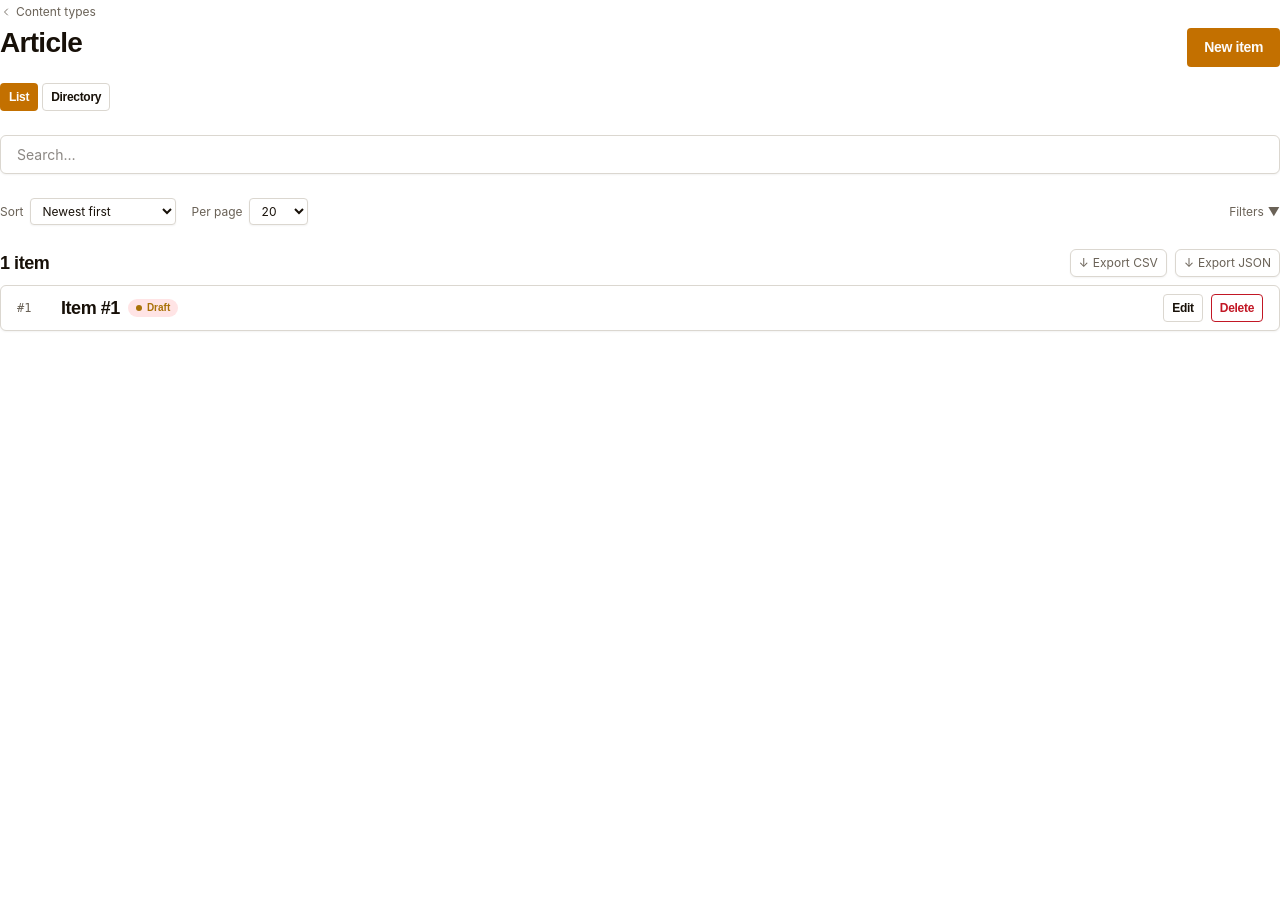
Test: EntityRecordsPage › deletes a record after confirmation
Expected: the text "Item #1" is shown, [61,298,120,317]
Click the button "Delete". click: x=1237, y=308
box: [1211,294,1263,322]
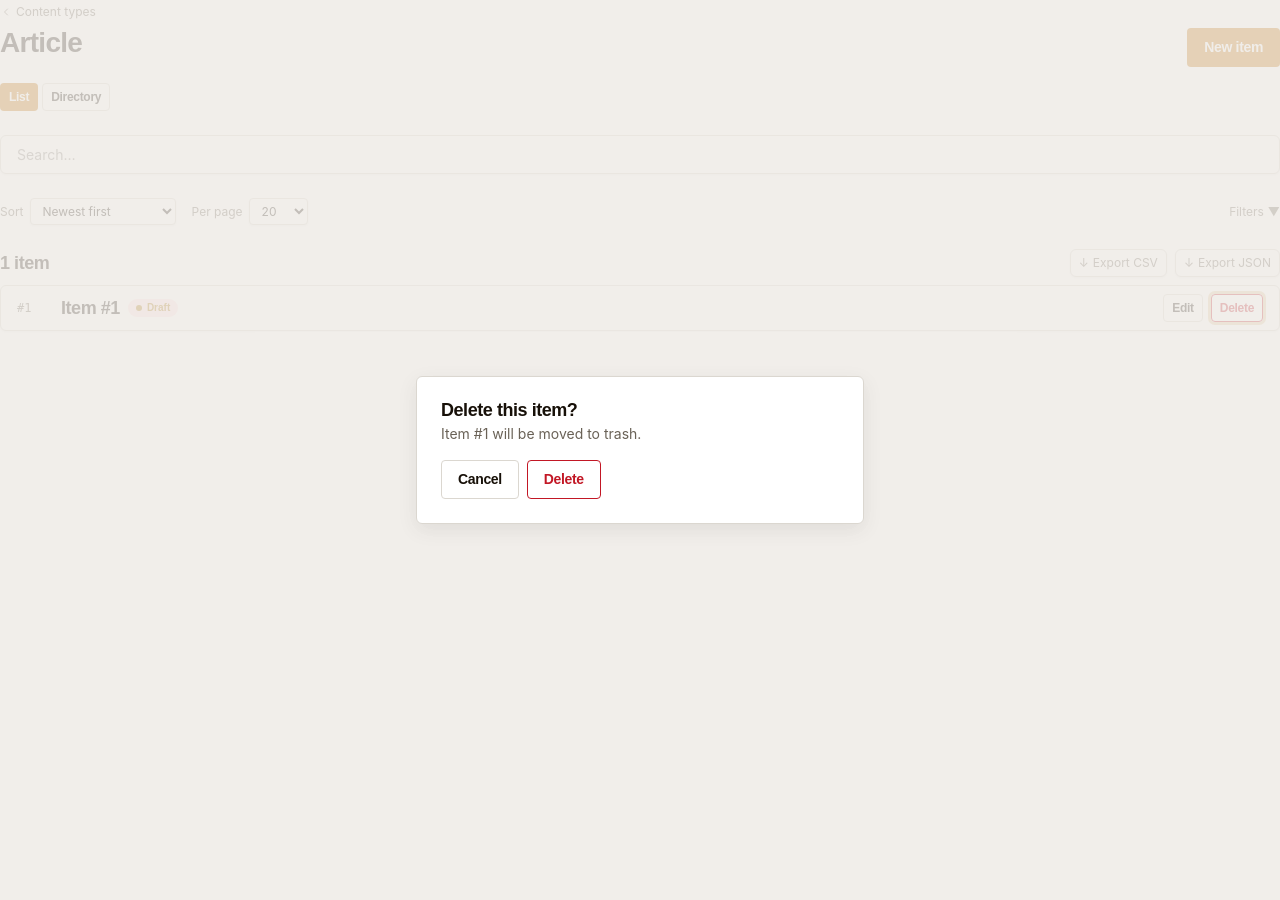
Expected: the dialog is shown, [416,376,864,524]
Click the button "Delete". click: x=564, y=480
box: [527,460,601,499]
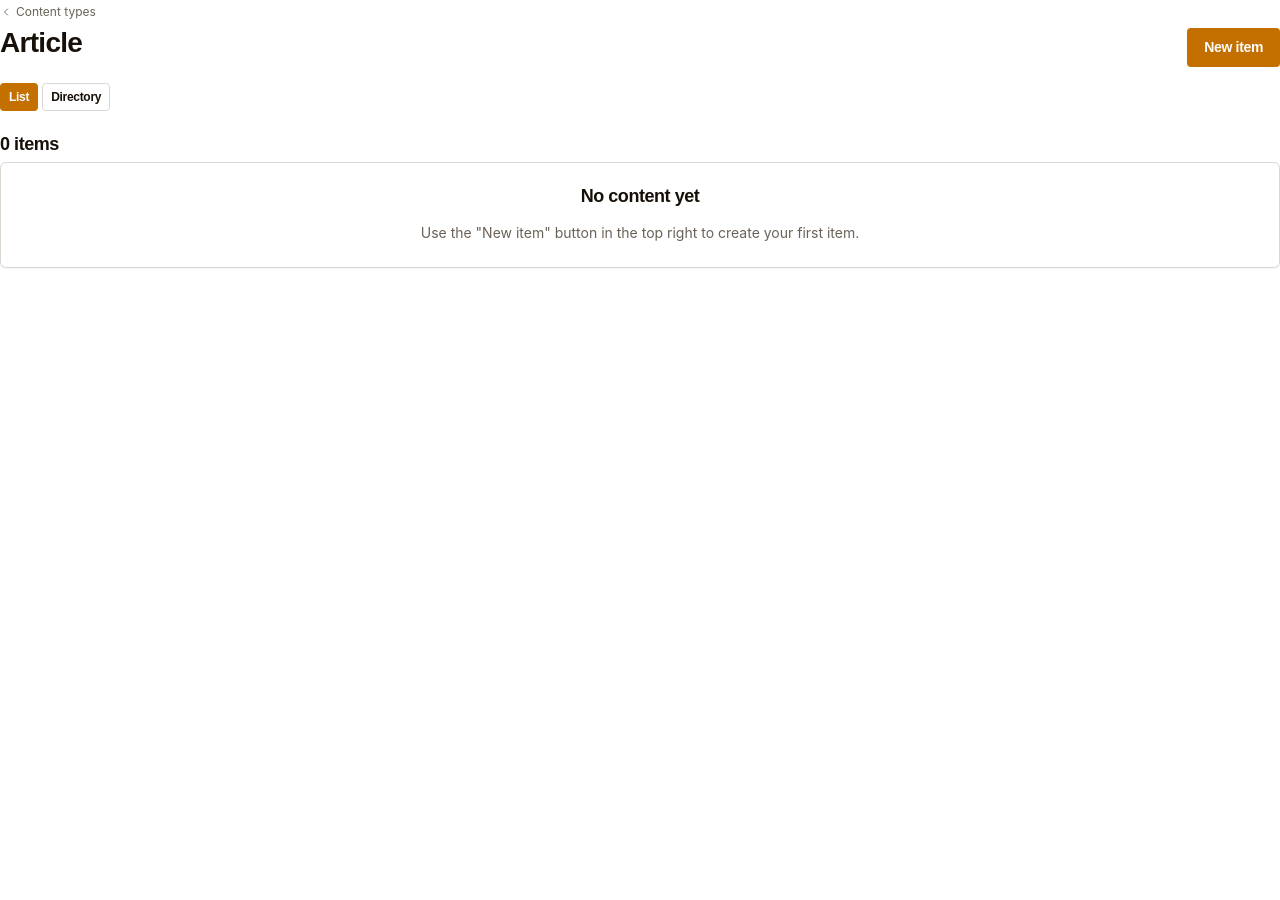
Expected: the text "Item #1" is gone
Expected: the heading "No content yet" is shown, [581,187,699,206]
